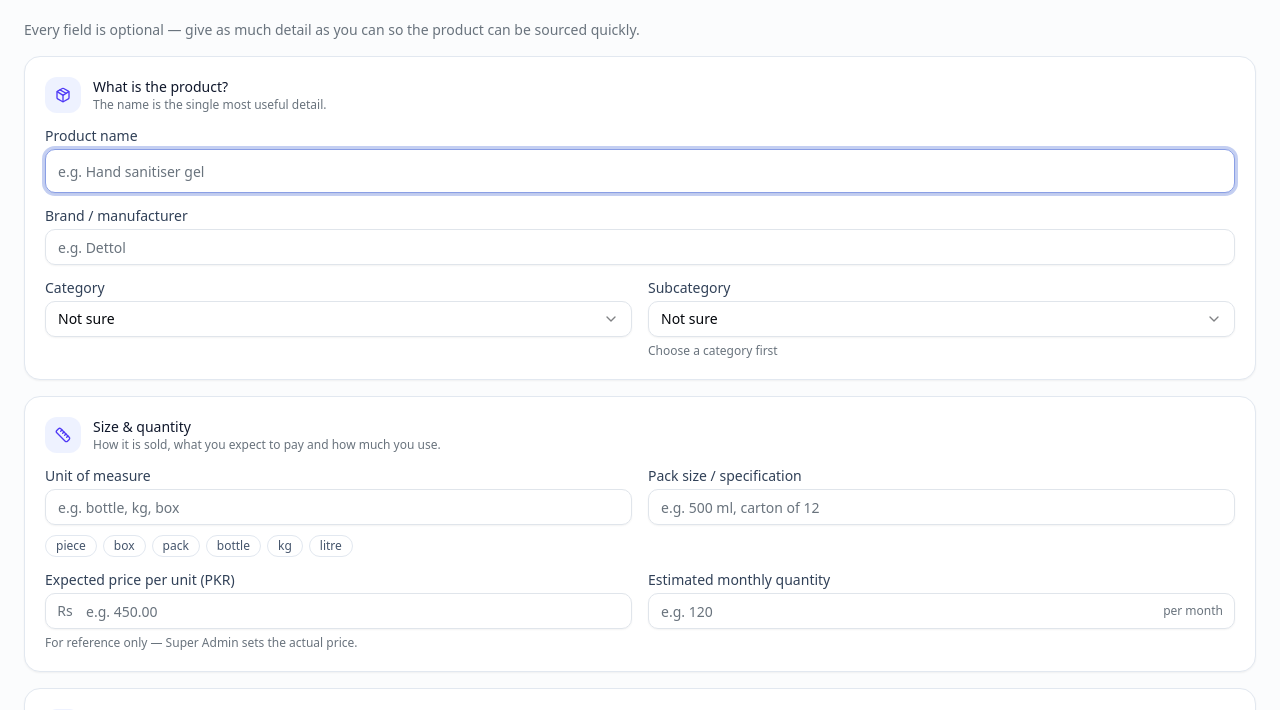
Test: ProductRequestForm guidance › says how many details have been given
The image size is (1280, 710).
Type "Soap" into the field labelled "Product name" at (640, 171), box [45,149,1235,193]
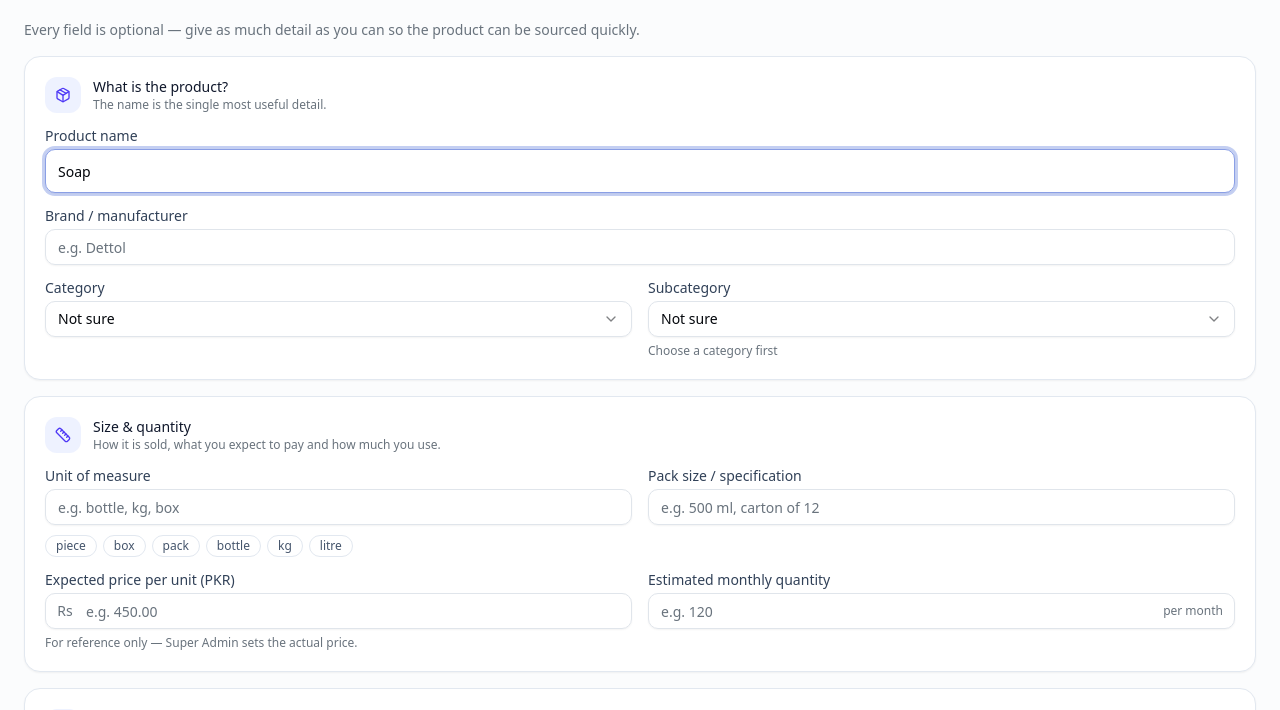
Type "Lux" into the field labelled "Brand / manufacturer" at (640, 247), box [45,229,1235,265]
(page scrolled)
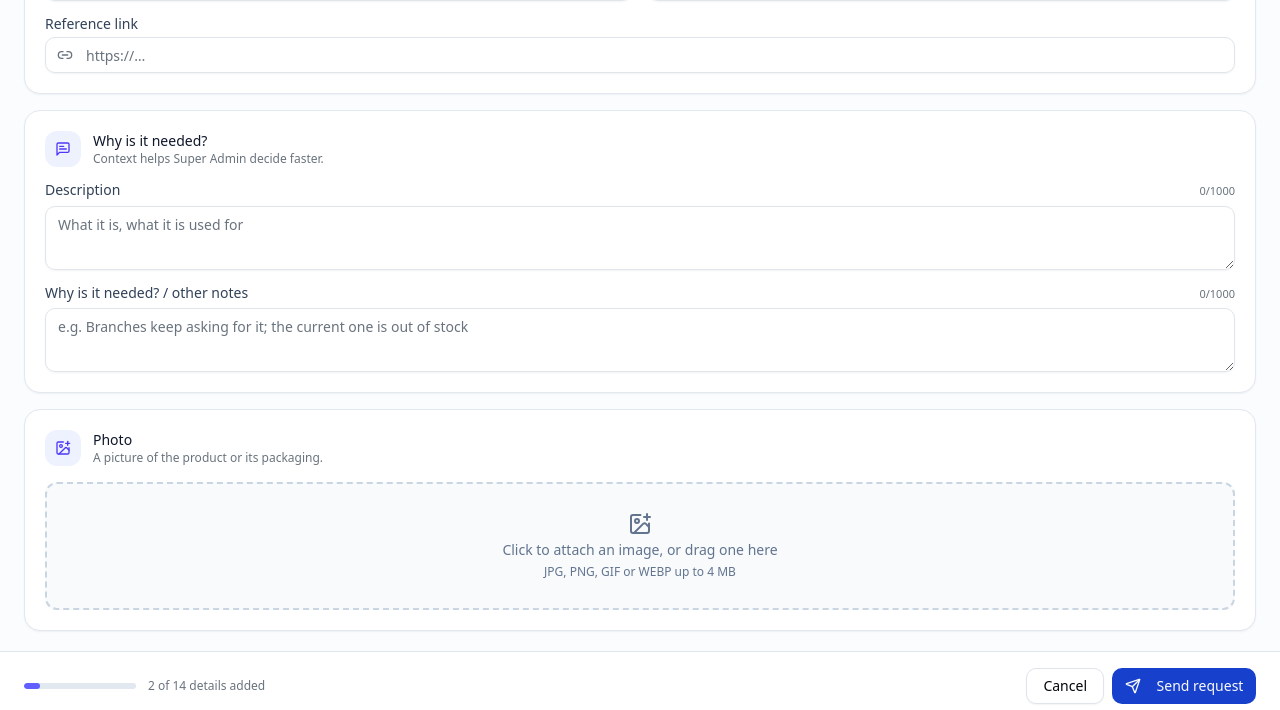
Expected: the text "2 of 14 details added" is shown, [148,678,265,694]
